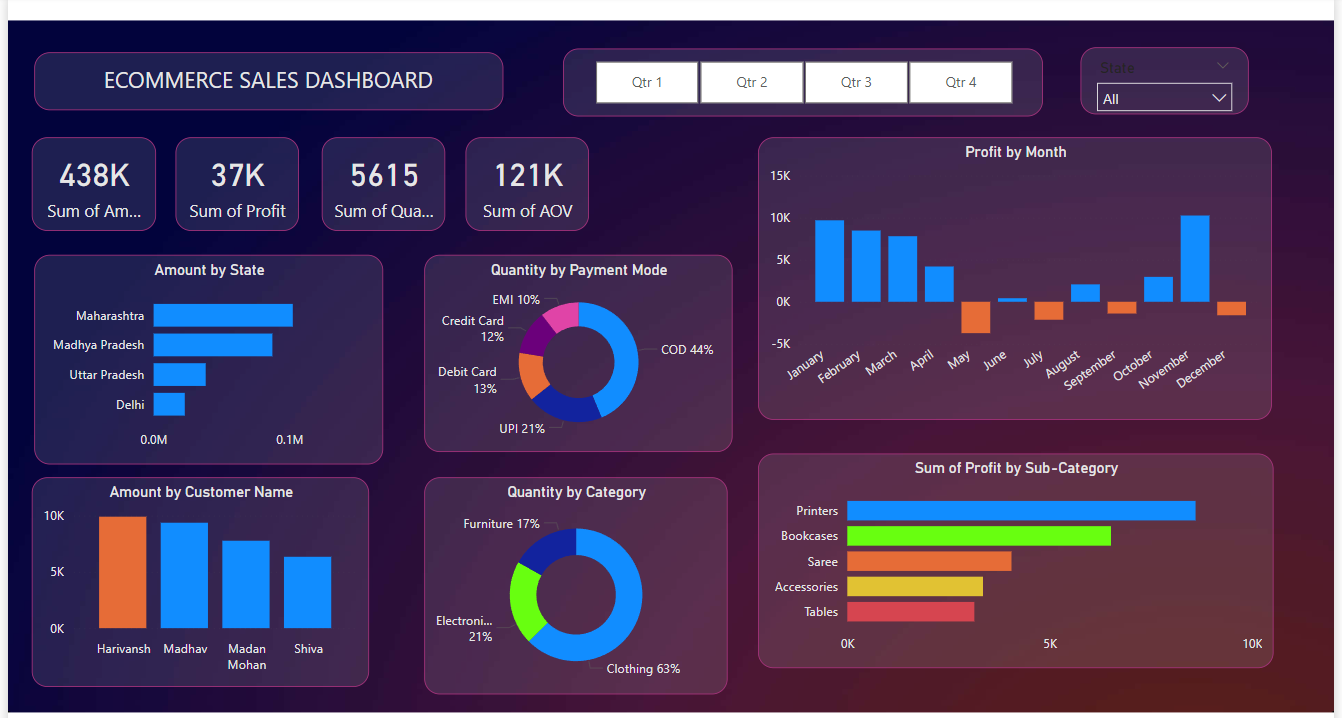

This screenshot's page, from the dashboard's own definition file:
{"tool":"powerbi","page":{"name":"Page 1","canvas":[1280,720],"ordinal":0},"visuals":[{"type":"columnChart","title":"Profit by Month","fields":{"Y":["Details.Profit"],"Category":["Orders.Order Date.Variation.Date Hierarchy.Month"]},"box":[724.4,136.6,496.3,273.2],"z":1000},{"type":"barChart","fields":{"Category":["Details.Sub-Category"],"Y":["Details.Profit"]},"box":[724.4,441.5,497.6,207.3],"z":2000},{"type":"donutChart","fields":{"Category":["Details.Category"],"Y":["Details.Quantity"]},"box":[401.2,464.6,292.7,209.8],"z":3000},{"type":"donutChart","fields":{"Category":["Details.PaymentMode","Details.Category"],"Y":["Details.Quantity"]},"box":[401.2,250,297.6,190.2],"z":4000},{"type":"card","fields":{"Values":["Details.Amount"]},"box":[23.2,136.6,120,90],"z":5000},{"type":"card","fields":{"Values":["Details.Quantity"]},"box":[302.4,136.6,119.5,90.2],"z":6000},{"type":"card","fields":{"Values":["Details.Profit"]},"box":[162.2,136.6,119.5,90.2],"z":7000},{"type":"card","fields":{"Values":["Details.AOV"]},"box":[441.5,136.6,119.5,90.2],"z":8000},{"type":"barChart","fields":{"Category":["Orders.State"],"Y":["Details.Amount"]},"box":[25.6,250,336.6,202.4],"z":9000},{"type":"columnChart","fields":{"Category":["Orders.CustomerName"],"Y":["Details.Amount"]},"box":[23.2,464.6,325.6,202.4],"z":10000},{"type":"textbox","box":[25.6,54.9,452.4,56.1],"z":10001},{"type":"slicer","fields":{"Values":["Orders.Order Date.Variation.Date Hierarchy.Quarter"]},"box":[535.4,51.2,463.4,65.9],"z":10002},{"type":"slicer","fields":{"Values":["Orders.State"]},"box":[1035.4,50,162.2,64.6],"z":10003}]}

Visuals, with their boxes on the page's 1280x720 design canvas (x1, y1, x2, y2). These are canvas units, not pixel positions in the 1342x718 screenshot, which may show the page scaled, cropped or inside an application window:
"Profit by Month" columnChart: {"left": 724, "top": 137, "right": 1221, "bottom": 410}
barChart - Details.Sub-Category x Details.Profit: {"left": 724, "top": 442, "right": 1222, "bottom": 649}
donutChart - Details.Category x Details.Quantity: {"left": 401, "top": 465, "right": 694, "bottom": 674}
donutChart - Details.PaymentMode x Details.Category: {"left": 401, "top": 250, "right": 699, "bottom": 440}
card - Details.Amount: {"left": 23, "top": 137, "right": 143, "bottom": 227}
card - Details.Quantity: {"left": 302, "top": 137, "right": 422, "bottom": 227}
card - Details.Profit: {"left": 162, "top": 137, "right": 282, "bottom": 227}
card - Details.AOV: {"left": 442, "top": 137, "right": 561, "bottom": 227}
barChart - Orders.State x Details.Amount: {"left": 26, "top": 250, "right": 362, "bottom": 452}
columnChart - Orders.CustomerName x Details.Amount: {"left": 23, "top": 465, "right": 349, "bottom": 667}
textbox: {"left": 26, "top": 55, "right": 478, "bottom": 111}
slicer - Orders.Order Date.Variation.Date Hierarchy.Quarter: {"left": 535, "top": 51, "right": 999, "bottom": 117}
slicer - Orders.State: {"left": 1035, "top": 50, "right": 1198, "bottom": 115}
